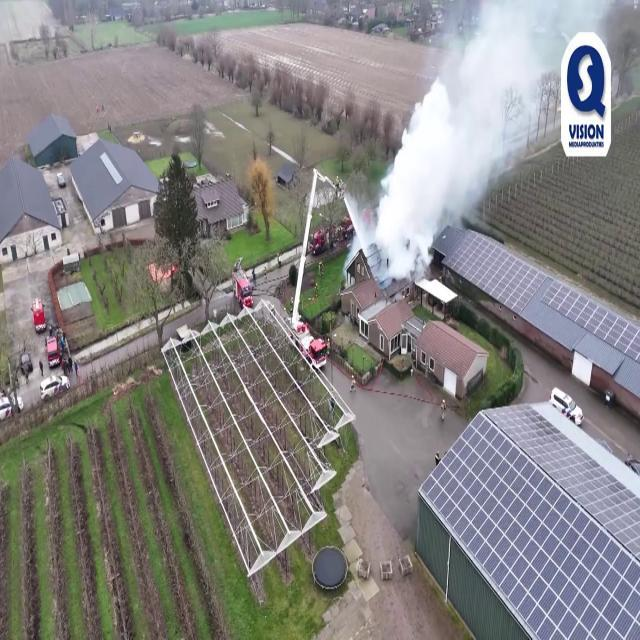Smoke: (373, 0, 551, 282)
